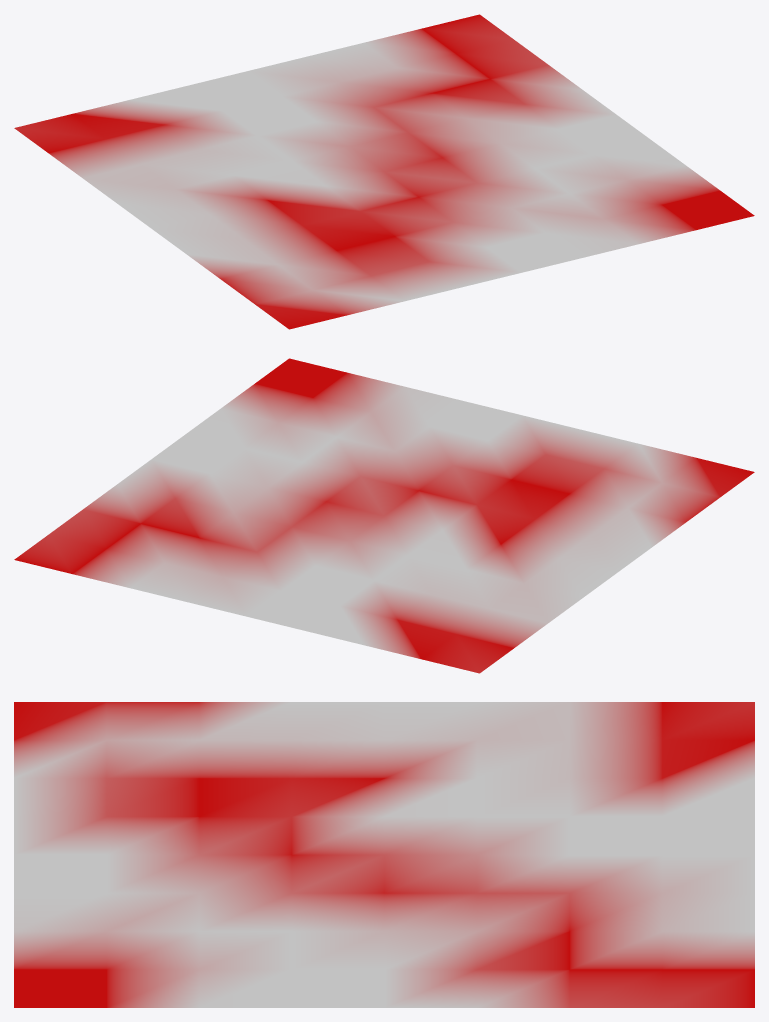
The model's file is VertexPlane.FBX.
The picture shows the model from 3 angles, top to bottom: view 1: azimuth 30°, elevation 25°; view 2: azimuth 150°, elevation 25°; view 3: azimuth 270°, elevation 25°; orthographic projection. The views are drawn at different scales.
Visible parts, largest first — view 1: VertexPlane; view 2: VertexPlane; view 3: VertexPlane.
Part boxes in pixels (<box>): VertexPlane: <box>14,14,754,329</box>; VertexPlane: <box>14,358,754,673</box>; VertexPlane: <box>14,702,754,1007</box>.
Size of the model in its own units: 1417 by 0.021 by 1450.
